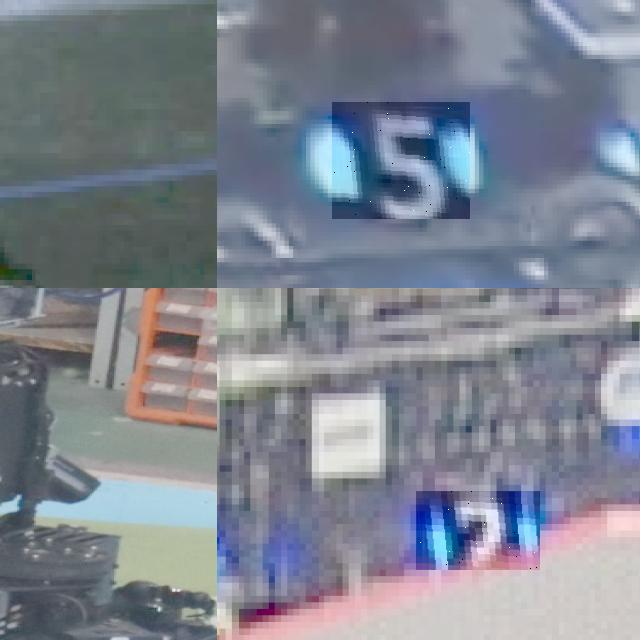B2: (416, 491, 540, 570)
B5: (332, 102, 470, 219)
